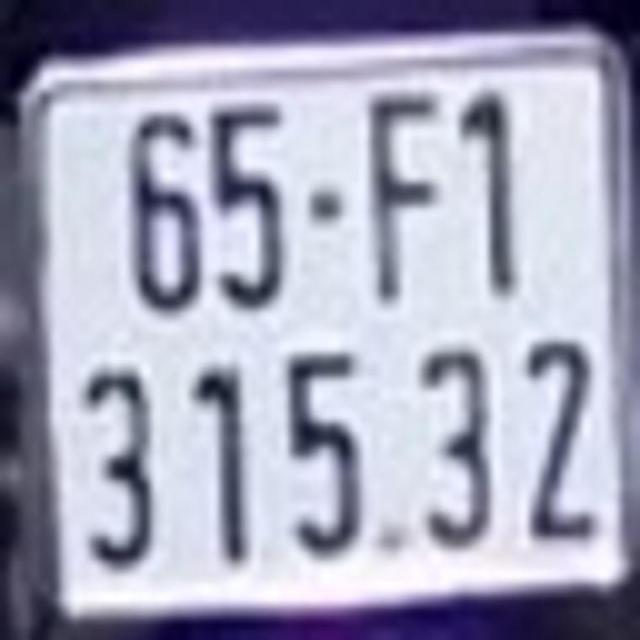1: (458, 85, 521, 290), (190, 370, 256, 553)
2: (528, 343, 596, 540)
3: (420, 347, 494, 551), (91, 370, 157, 568)
5: (209, 104, 286, 314), (286, 353, 363, 554)
6: (133, 108, 200, 308)
F: (369, 92, 441, 294)
